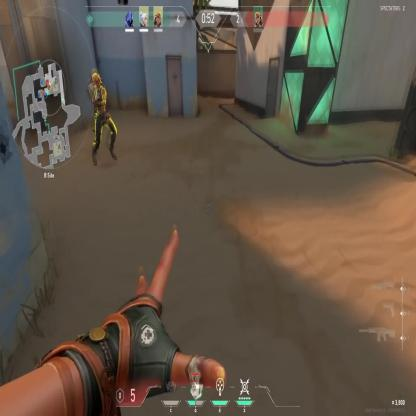enemy: (87, 68, 117, 164)
enemy_head: (92, 72, 101, 90)
